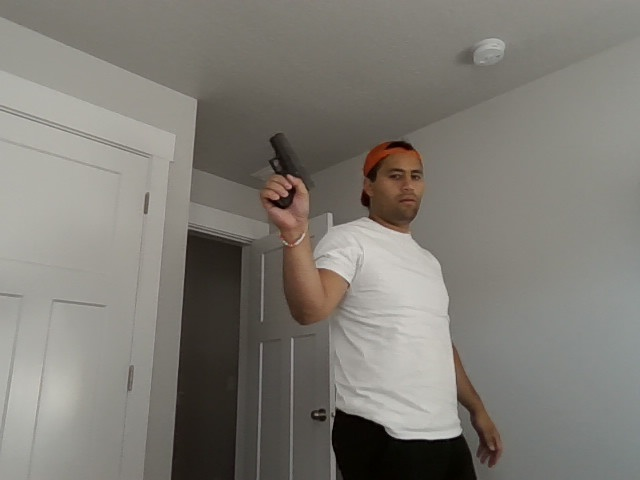handgun: (267, 128, 314, 209)
